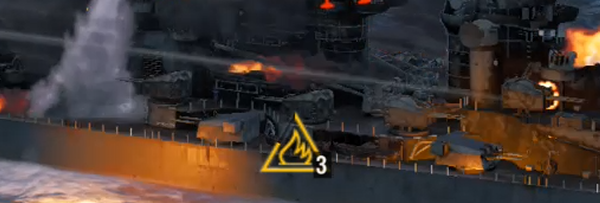3fire: (258, 138, 333, 179)
